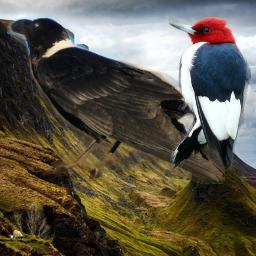Crow: (7, 12, 225, 184)
Woodpecker: (168, 12, 251, 174)
